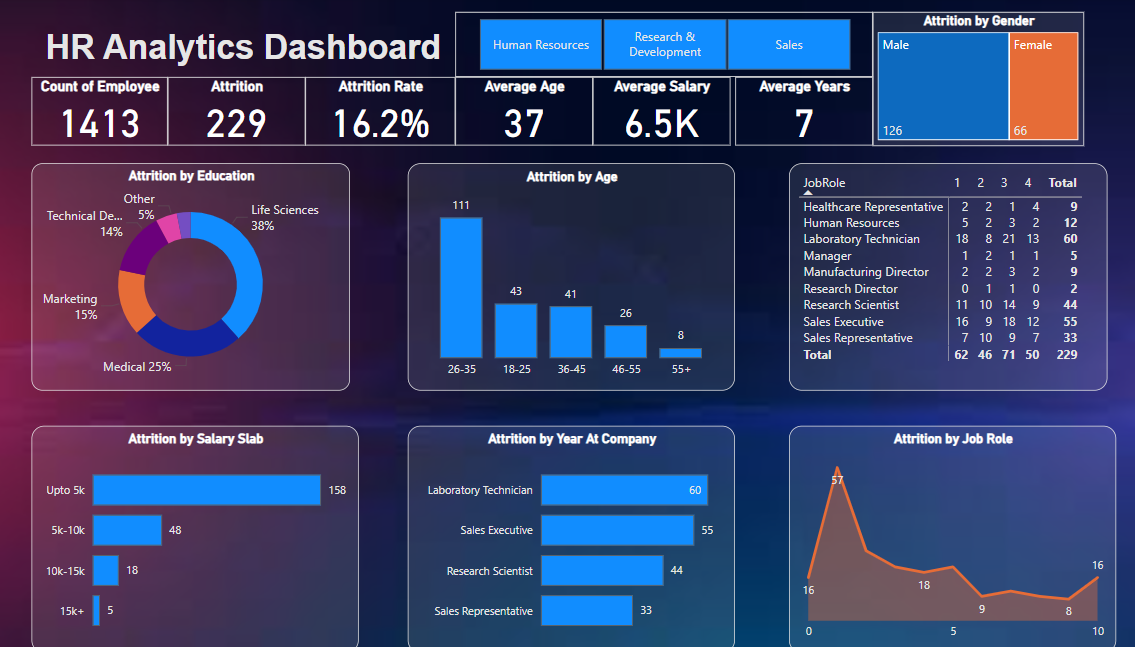

What the dashboard file says about the page in this screenshot:
{"tool":"powerbi","page":{"name":"Page 1","canvas":[1280,720],"ordinal":0},"visuals":[{"type":"card","title":"Count of Employee","fields":{"Values":["CountNonNull(HR_Analytics.EmpID)"]},"box":[46.7,87.8,149.6,75.5],"z":0},{"type":"card","title":"Attrition","fields":{"Values":["Sum(HR_Analytics.AttritionCount)"]},"box":[196.2,87.8,150.9,75.5],"z":1000},{"type":"card","title":"Attrition Rate","fields":{"Values":["HR_Analytics.AttritionRate"]},"box":[347.2,87.8,164.7,75.5],"z":2000},{"type":"card","title":"Average Age","fields":{"Values":["Avg(HR_Analytics.Age)"]},"box":[511.8,87.8,150.9,75.5],"z":3000},{"type":"card","title":"Average Years","fields":{"Values":["Avg(HR_Analytics.YearsAtCompany)"]},"box":[819.2,87.8,150.9,75.5],"z":4000},{"type":"card","title":"Average Salary","fields":{"Values":["Avg(HR_Analytics.MonthlyIncome)"]},"box":[662.8,87.8,150.9,75.5],"z":5000},{"type":"donutChart","title":"Attrition by Education","fields":{"Category":["HR_Analytics.EducationField"],"Y":["Sum(HR_Analytics.AttritionCount)"]},"box":[46.7,182.5,349.9,249.7],"z":6000},{"type":"columnChart","title":"Attrition by Age","fields":{"Category":["HR_Analytics.AgeGroup"],"Y":["Sum(HR_Analytics.AttritionCount)"]},"box":[459.7,182.5,359.5,249.7],"z":7000},{"type":"pivotTable","fields":{"Rows":["HR_Analytics.JobRole"],"Columns":["HR_Analytics.JobSatisfaction"],"Values":["Sum(HR_Analytics.AttritionCount)"]},"box":[878.2,182.5,349.9,249.7],"z":8000},{"type":"barChart","title":"Attrition by Salary Slab","fields":{"Category":["HR_Analytics.SalarySlab"],"Y":["Sum(HR_Analytics.AttritionCount)"]},"box":[46.7,470.7,359.5,249.7],"z":9000},{"type":"barChart","title":"Attrition by Year At Company","fields":{"Y":["Sum(HR_Analytics.AttritionCount)"],"Category":["HR_Analytics.JobRole"]},"box":[459.7,470.7,359.5,249.7],"z":10000},{"type":"areaChart","title":"Attrition by Job Role","fields":{"Category":["HR_Analytics.YearsAtCompany"],"Y":["Sum(HR_Analytics.AttritionCount)"]},"box":[878.2,470.7,359.5,249.7],"z":11000},{"type":"treemap","title":"Attrition by Gender","fields":{"Group":["HR_Analytics.Gender"],"Values":["Sum(HR_Analytics.AttritionCount)"]},"box":[970.2,16.5,231.9,146.8],"z":12000},{"type":"slicer","fields":{"Values":["HR_Analytics.Department"]},"box":[511.8,16.5,458.3,71.4],"z":13000},{"type":"textbox","box":[46.7,28.8,465.2,59],"z":14000}]}

Visuals, with their boxes in screenshot pixels (x1, y1, x2, y2), scaled from the page's 1280x720 canvas onto the 1135x647 screenshot:
"Count of Employee" card: (left=41, top=79, right=174, bottom=147)
"Attrition" card: (left=174, top=79, right=308, bottom=147)
"Attrition Rate" card: (left=308, top=79, right=454, bottom=147)
"Average Age" card: (left=454, top=79, right=588, bottom=147)
"Average Years" card: (left=726, top=79, right=860, bottom=147)
"Average Salary" card: (left=588, top=79, right=722, bottom=147)
"Attrition by Education" donutChart: (left=41, top=164, right=352, bottom=388)
"Attrition by Age" columnChart: (left=408, top=164, right=726, bottom=388)
pivotTable - HR_Analytics.JobRole x HR_Analytics.JobSatisfaction: (left=779, top=164, right=1089, bottom=388)
"Attrition by Salary Slab" barChart: (left=41, top=423, right=360, bottom=646)
"Attrition by Year At Company" barChart: (left=408, top=423, right=726, bottom=646)
"Attrition by Job Role" areaChart: (left=779, top=423, right=1097, bottom=646)
"Attrition by Gender" treemap: (left=860, top=15, right=1066, bottom=147)
slicer - HR_Analytics.Department: (left=454, top=15, right=860, bottom=79)
textbox: (left=41, top=26, right=454, bottom=79)
